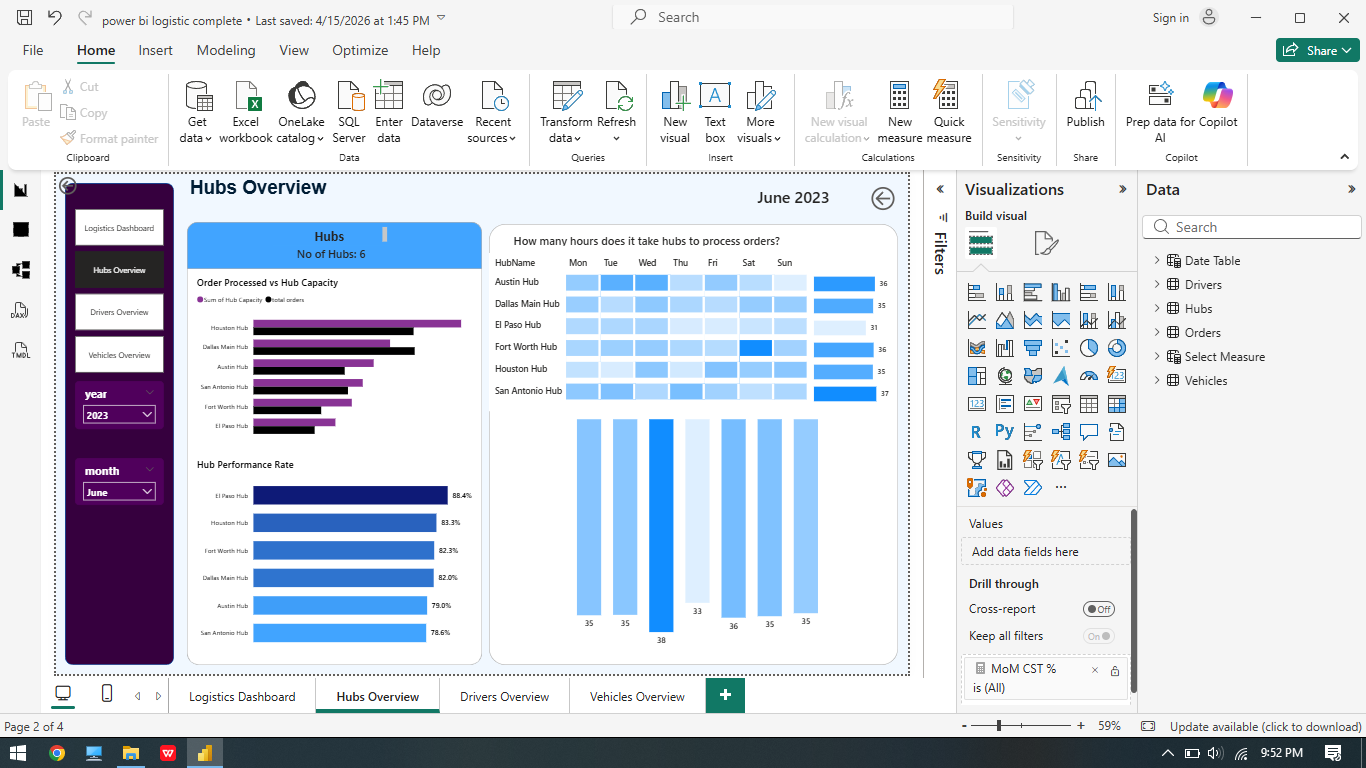

The dashboard page shown, as its layout file describes it:
{"tool":"powerbi","page":{"name":"Hubs Overview","canvas":[1450,850],"ordinal":1},"visuals":[{"type":"shape","box":[15.3,15.3,185.3,819.4],"z":0},{"type":"textbox","box":[222.7,0,324.7,59.5],"z":1000},{"type":"slicer","fields":{"Values":["Date Table.year"]},"box":[32.3,351.9,151.3,81.6],"z":2000},{"type":"slicer","fields":{"Values":["Date Table.month"]},"box":[32.3,482.8,151.3,79.9],"z":3000},{"type":"actionButton","box":[0,0,100,40],"z":4000},{"type":"shape","box":[222.7,81.6,501.5,753.1],"z":5000},{"type":"shape","box":[736.1,85,695.3,749.7],"z":6000},{"type":"shape","box":[222.7,81.6,501.5,79.9],"z":7000},{"type":"textbox","box":[368.9,85,198.9,37.4],"z":8000},{"type":"cardVisual","fields":{"Data":["Hubs.No of Hubs"]},"box":[377.4,107.1,181.9,54.4],"z":9000},{"type":"clusteredBarChart","title":"Order Processed vs Hub Capacity","fields":{"Category":["Hubs.HubName"],"Y":["Sum(Hubs.Hub Capacity)","Orders.total orders"]},"box":[234.6,173.4,477.7,287.3],"z":10000},{"type":"barChart","title":"Hub Performance Rate ","fields":{"Y":["Orders.On Time Delivery Rate"],"Category":["Hubs.HubName"]},"box":[234.6,482.8,477.7,338.3],"z":11000},{"type":"cardVisual","fields":{"Data":["Orders.Year Month Title"]},"box":[1113.5,0,280.5,73.1],"z":12000},{"type":"pivotTable","fields":{"Rows":["Hubs.HubName"],"Columns":["Date Table.Day"],"Values":["Orders.avg delivery Time (Hrs)"]},"box":[736.1,134.3,566.1,268.6],"z":13000},{"type":"columnChart","fields":{"Category":["Date Table.Day"],"Y":["Orders.avg delivery Time (Hrs)"]},"box":[880.6,402.9,421.6,406.3],"z":14000},{"type":"barChart","fields":{"Y":["Orders.avg delivery Time (Hrs)"],"Category":["Hubs.HubName"]},"box":[1283.5,161.5,166.6,231.2],"z":15000},{"type":"cardVisual","fields":{"Data":["Hubs.Hub Title"]},"box":[754.8,85,499.8,54.4],"z":16000},{"type":"pageNavigator","box":[32.3,59.5,151.3,278.8],"z":17000},{"type":"actionButton","box":[1380.4,10.2,51,62.9],"z":18000}]}

Visuals, with their boxes on the page's 1450x850 design canvas (x1, y1, x2, y2). These are canvas units, not pixel positions in the 1366x768 screenshot, which may show the page scaled, cropped or inside an application window:
shape: {"left": 15, "top": 15, "right": 201, "bottom": 835}
textbox: {"left": 223, "top": 0, "right": 547, "bottom": 60}
slicer - Date Table.year: {"left": 32, "top": 352, "right": 184, "bottom": 434}
slicer - Date Table.month: {"left": 32, "top": 483, "right": 184, "bottom": 563}
actionButton: {"left": 0, "top": 0, "right": 100, "bottom": 40}
shape: {"left": 223, "top": 82, "right": 724, "bottom": 835}
shape: {"left": 736, "top": 85, "right": 1431, "bottom": 835}
shape: {"left": 223, "top": 82, "right": 724, "bottom": 162}
textbox: {"left": 369, "top": 85, "right": 568, "bottom": 122}
cardVisual - Hubs.No of Hubs: {"left": 377, "top": 107, "right": 559, "bottom": 162}
"Order Processed vs Hub Capacity" clusteredBarChart: {"left": 235, "top": 173, "right": 712, "bottom": 461}
"Hub Performance Rate " barChart: {"left": 235, "top": 483, "right": 712, "bottom": 821}
cardVisual - Orders.Year Month Title: {"left": 1114, "top": 0, "right": 1394, "bottom": 73}
pivotTable - Hubs.HubName x Date Table.Day: {"left": 736, "top": 134, "right": 1302, "bottom": 403}
columnChart - Date Table.Day x Orders.avg delivery Time (Hrs): {"left": 881, "top": 403, "right": 1302, "bottom": 809}
barChart - Orders.avg delivery Time (Hrs) x Hubs.HubName: {"left": 1284, "top": 162, "right": 1450, "bottom": 393}
cardVisual - Hubs.Hub Title: {"left": 755, "top": 85, "right": 1255, "bottom": 139}
pageNavigator: {"left": 32, "top": 60, "right": 184, "bottom": 338}
actionButton: {"left": 1380, "top": 10, "right": 1431, "bottom": 73}
